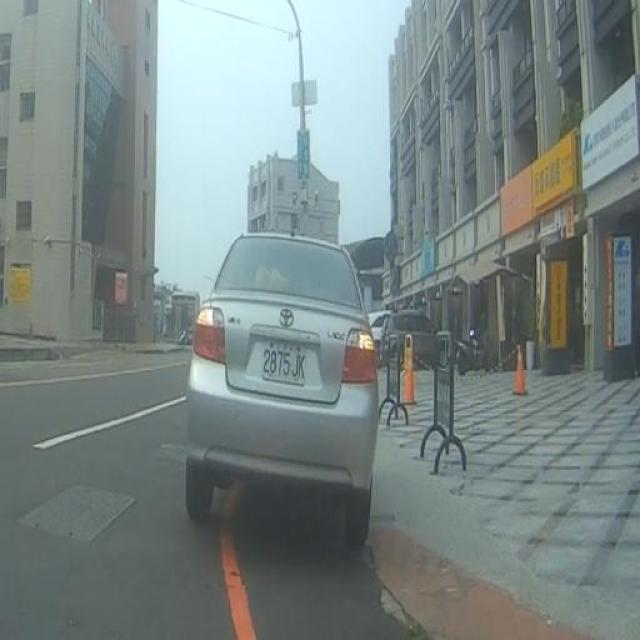illegalparking: (162, 170, 432, 630)
